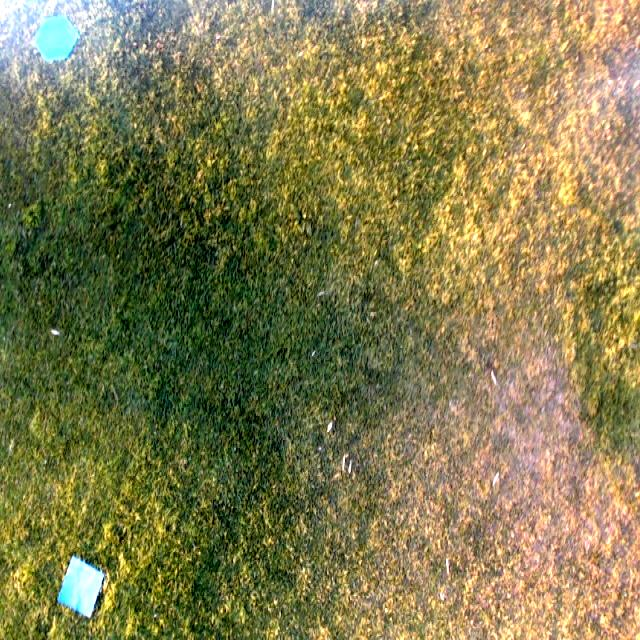blue_hexagon: (32, 16, 78, 65)
blue_square: (56, 554, 105, 619)
